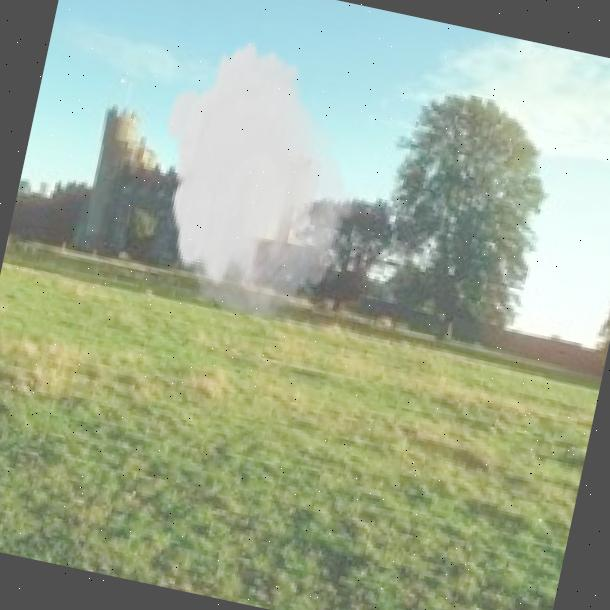smoke: (129, 23, 389, 331)
